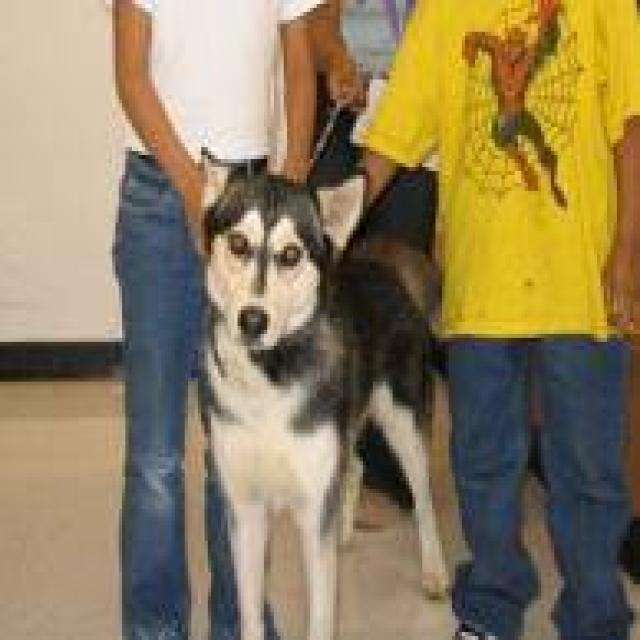adult_dog: (196, 145, 470, 640)
non-dog: (337, 1, 640, 638), (105, 1, 337, 633)
